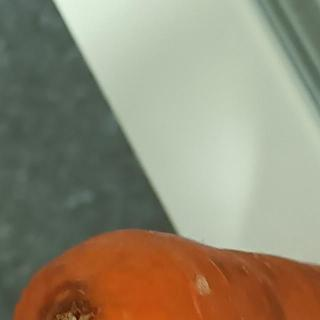carrot: (3, 225, 320, 320)
